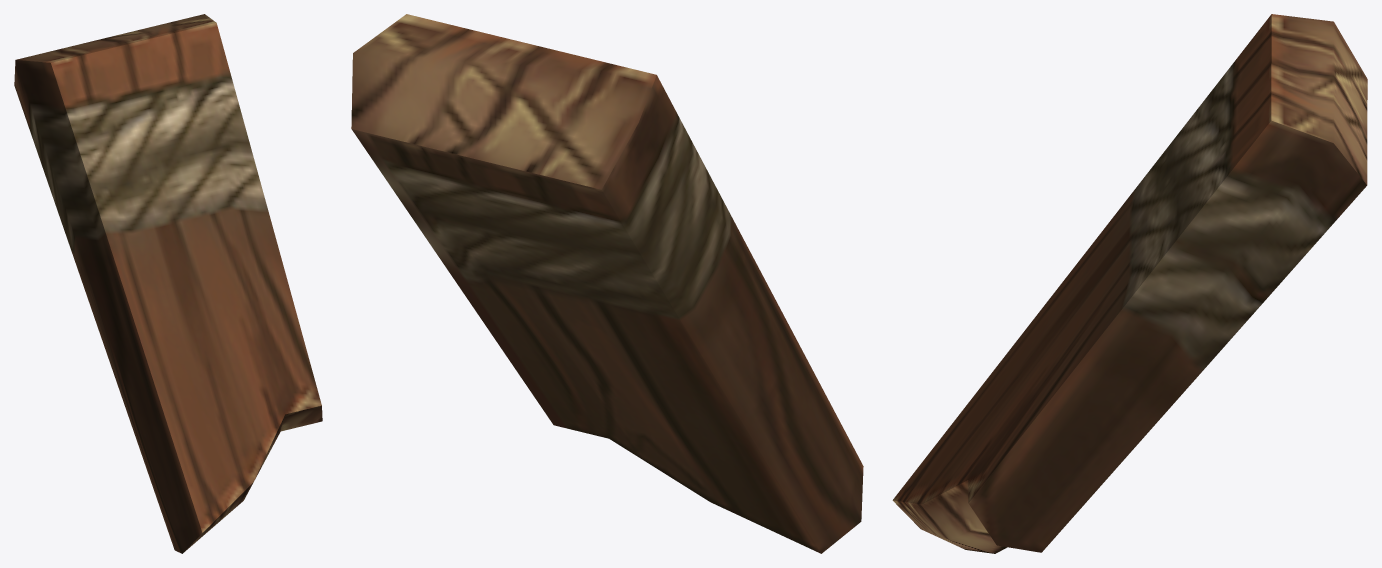
The model's file is rope_bridge_module_broken06.fbx.
3 views of the same model, side by side, from view 1: azimuth 30°, elevation 25°; view 2: azimuth 150°, elevation 25°; view 3: azimuth 270°, elevation 25° (orthographic). The views are drawn at different scales.
Parts seen in each view (by area): view 1: rope_bridge_module_broken06; view 2: rope_bridge_module_broken06; view 3: rope_bridge_module_broken06.
Part boxes in pixels (x1,y1,x2,y2): rope_bridge_module_broken06: (14, 14, 322, 553); rope_bridge_module_broken06: (351, 14, 863, 553); rope_bridge_module_broken06: (892, 14, 1367, 553).
Bounding box in the file's own units: 29.2 × 59.59 × 48.3.
